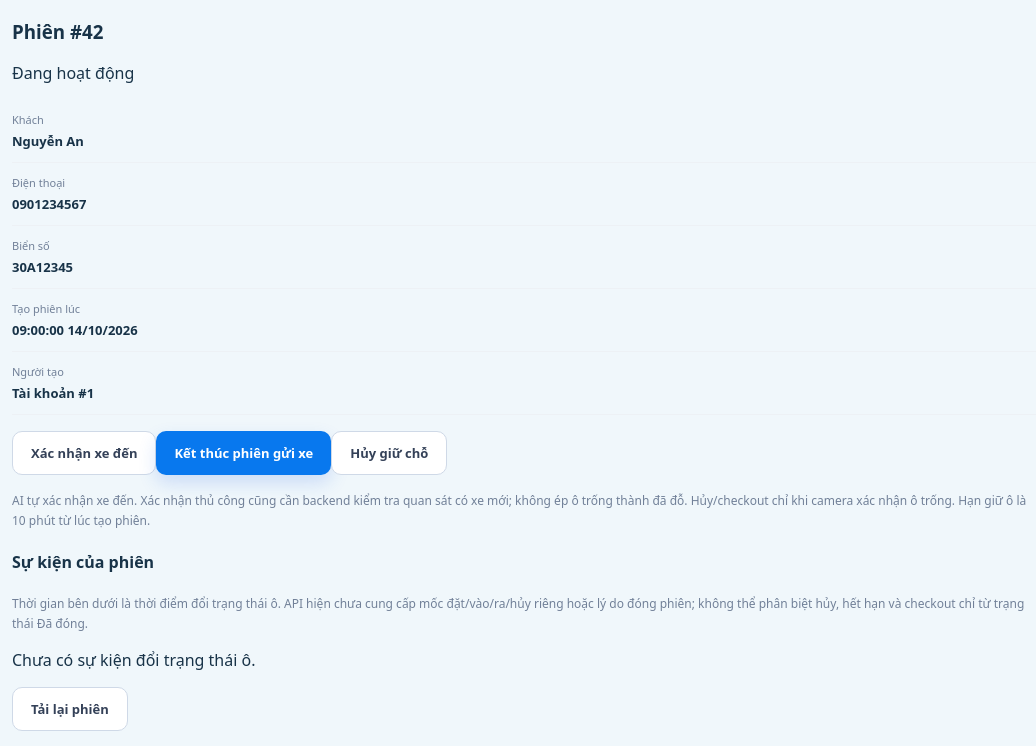
Test: session lifecycle controls › keeps checkout conflicts visible after refreshing the session
This screenshot has width=1036, height=746.
Step 1. Click the button "Kết thúc phiên gửi xe" → (244, 453), box [156,431,331,475]
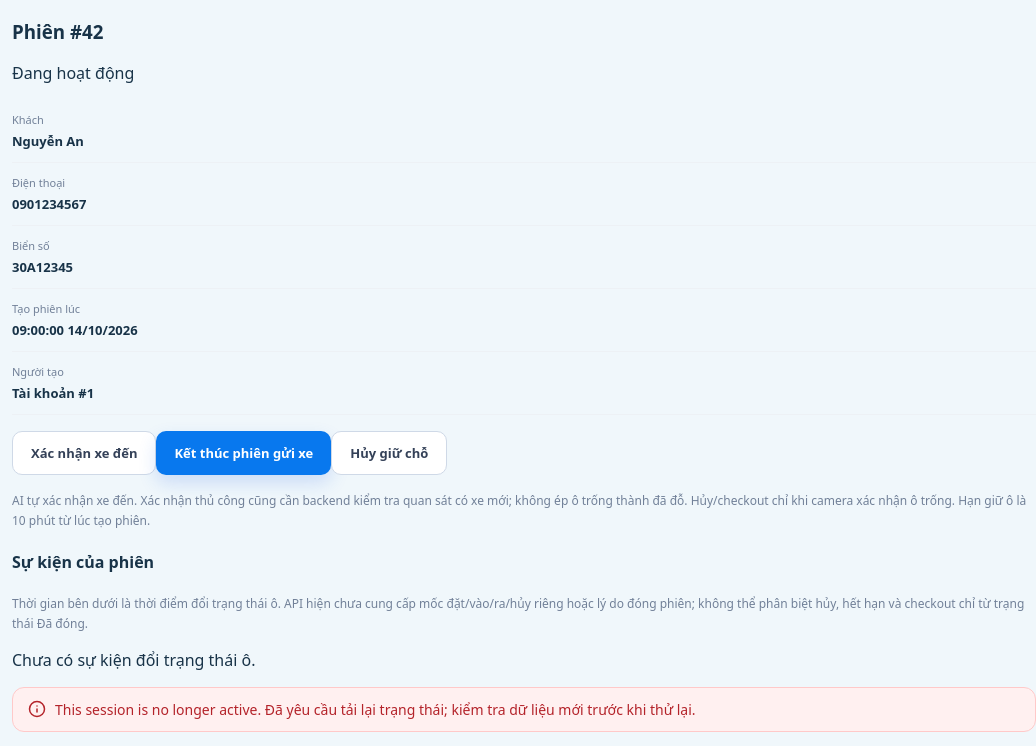
Check: the message shows "no longer active", box [55,700,696,719]
